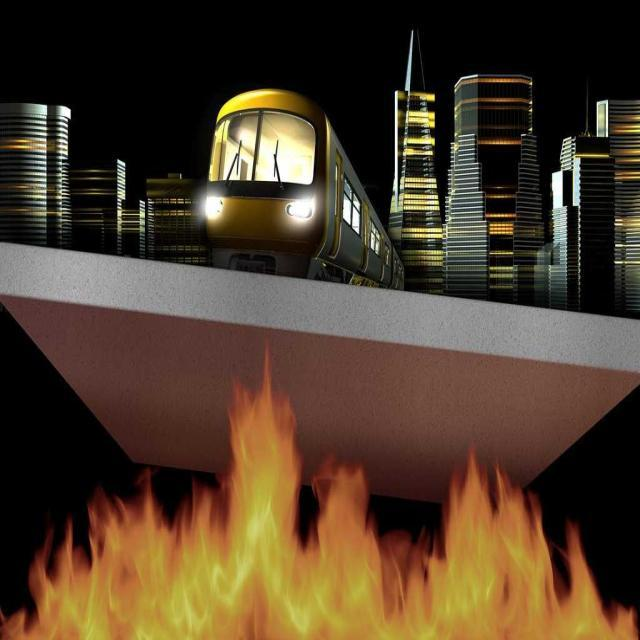Fire: (49, 434, 623, 640)
